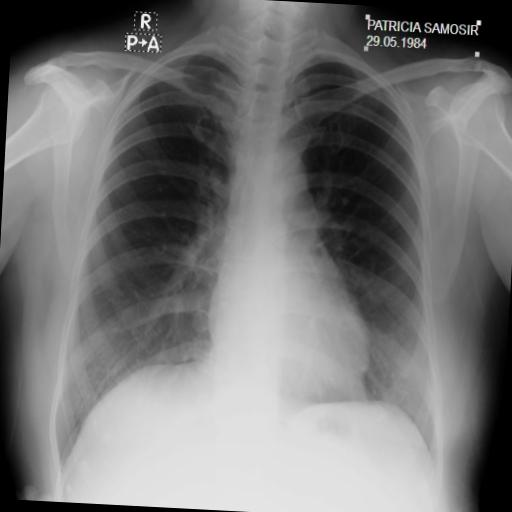normal: (38, 12, 468, 496)
